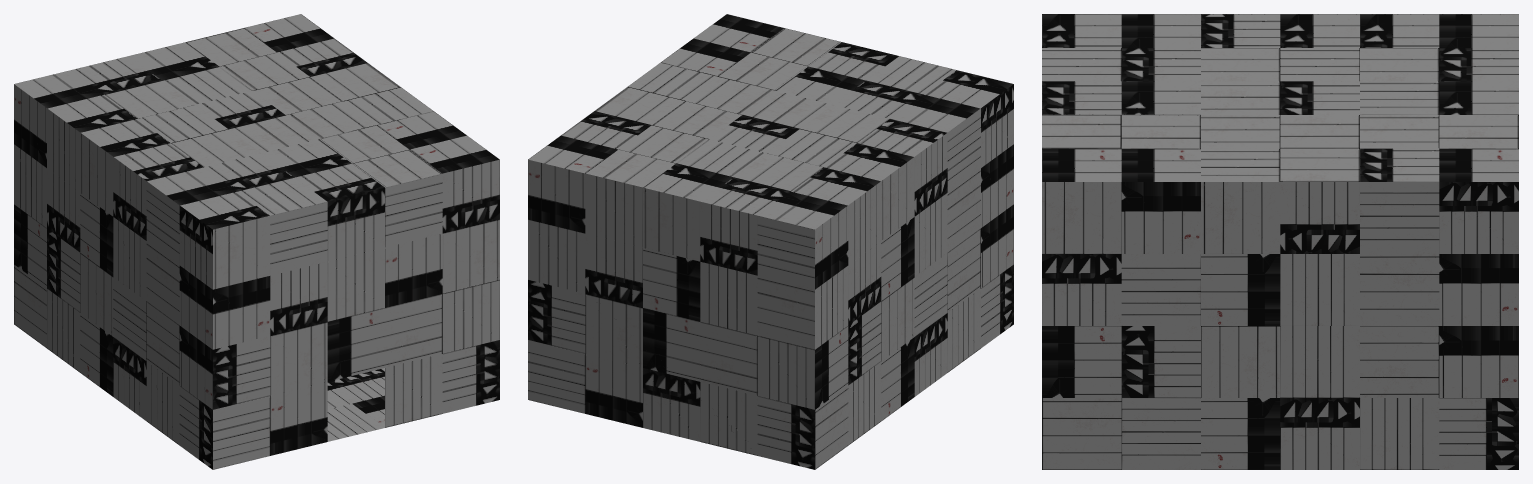
The model's file is casino.fbx.
The picture shows the model from 3 angles, left to right: view 1: azimuth 30°, elevation 25°; view 2: azimuth 150°, elevation 25°; view 3: azimuth 270°, elevation 25°; orthographic projection. The views are drawn at different scales.
Visible parts, largest first — view 1: Плоскость.002, Плоскость.003, Плоскость.011, Плоскость.036, Плоскость.022, Плоскость.024, Плоскость.005; view 2: Плоскость.002, Плоскость.066, Плоскость.023, Плоскость.011, Плоскость.036; view 3: Плоскость.002, Плоскость.049, Плоскость.006, Плоскость.018.
Part boxes in pixels (x1=…): Плоскость.002: x1=14, y1=14, x2=498, y2=229; Плоскость.003: x1=213, y1=280, x2=499, y2=469; Плоскость.011: x1=14, y1=84, x2=212, y2=349; Плоскость.036: x1=14, y1=204, x2=212, y2=469; Плоскость.022: x1=213, y1=187, x2=384, y2=349; Плоскость.024: x1=385, y1=159, x2=499, y2=307; Плоскость.005: x1=327, y1=368, x2=384, y2=441; Плоскость.002: x1=529, y1=14, x2=1013, y2=229; Плоскость.066: x1=528, y1=280, x2=814, y2=469; Плоскость.023: x1=528, y1=159, x2=814, y2=349; Плоскость.011: x1=815, y1=84, x2=1013, y2=349; Плоскость.036: x1=815, y1=204, x2=1013, y2=469; Плоскость.002: x1=1042, y1=14, x2=1518, y2=181; Плоскость.049: x1=1042, y1=326, x2=1518, y2=469; Плоскость.006: x1=1201, y1=182, x2=1518, y2=325; Плоскость.018: x1=1042, y1=182, x2=1200, y2=325.
Bounding box in the file's own units: 1000 × 800 × 1200.
